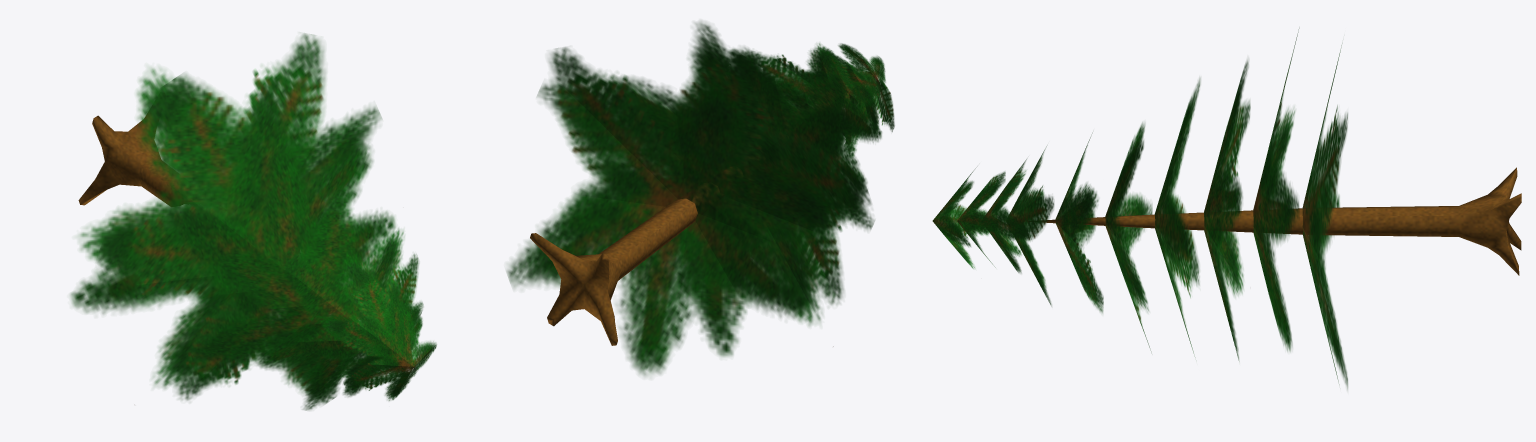
File: fir1.gltf
3 views of the same model, side by side, from view 1: azimuth 30°, elevation 25°; view 2: azimuth 150°, elevation 25°; view 3: azimuth 270°, elevation 25° (orthographic).
Parts seen in each view (by area): view 1: something0; view 2: something0; view 3: something0.
Boxes of the visible parts, x1,y1,x2,y2 form: something0: (70,33,436,410); something0: (506,21,894,376); something0: (932,28,1521,389).
Bounding box in the file's own units: 9 × 9 × 12.04.
1 material, 1 textured.
